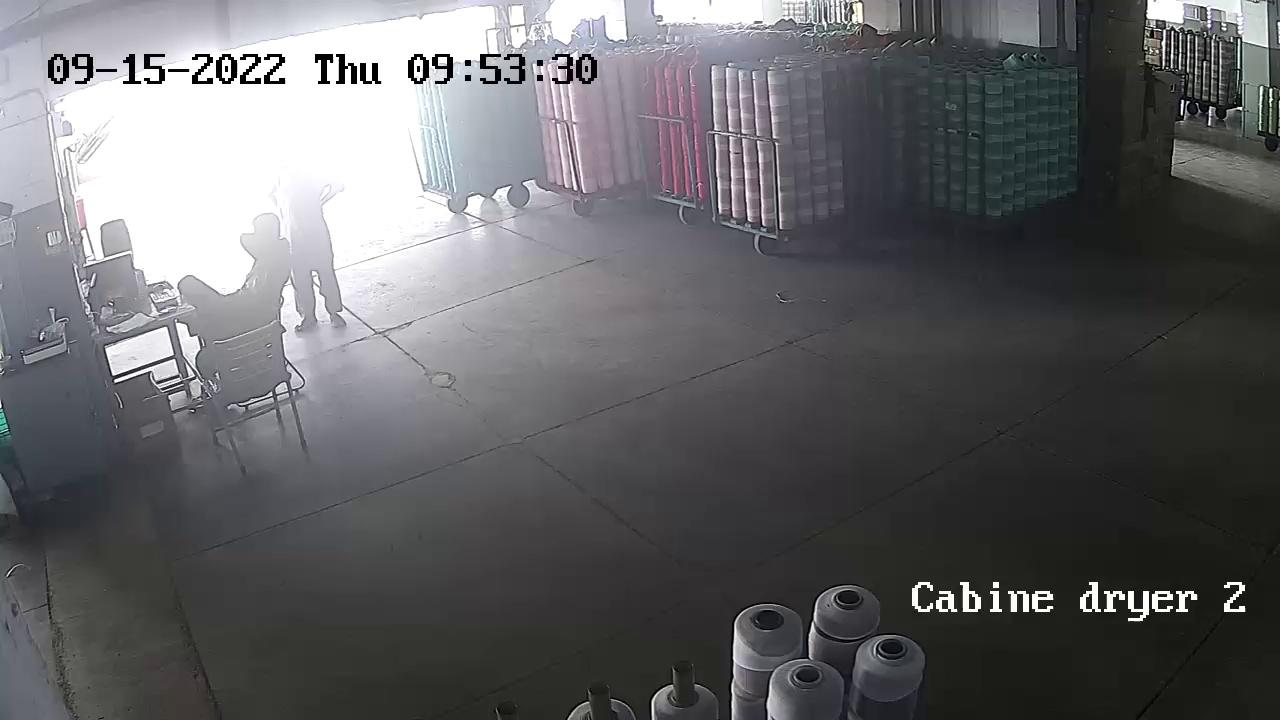person: (176, 217, 305, 339), (286, 157, 348, 328)
